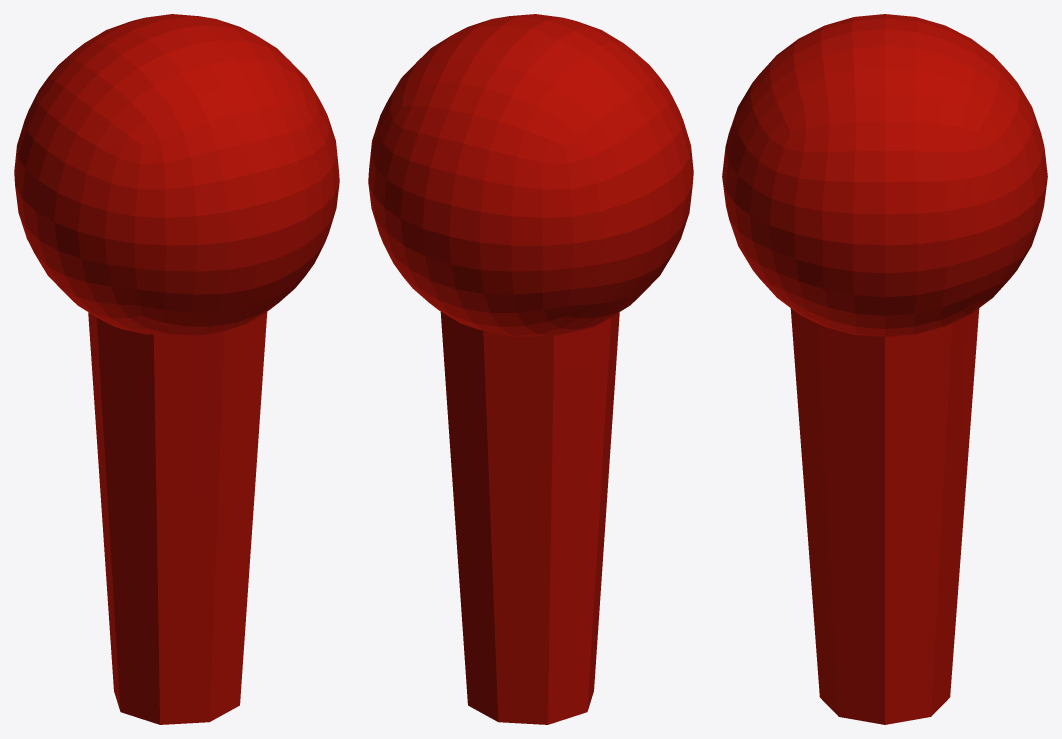
The model's file is JoystickStick.obj.
3 views of the same model, side by side, from view 1: azimuth 30°, elevation 25°; view 2: azimuth 150°, elevation 25°; view 3: azimuth 270°, elevation 25° (orthographic).
Visible parts, largest first — view 1: JoystickStick; view 2: JoystickStick; view 3: JoystickStick.
Boxes of the visible parts, x1=… form: JoystickStick: x1=14, y1=14, x2=339, y2=724; JoystickStick: x1=368, y1=14, x2=693, y2=724; JoystickStick: x1=722, y1=14, x2=1047, y2=724.
Bounding box in the file's own units: 0.025 × 0.0566 × 0.025.
